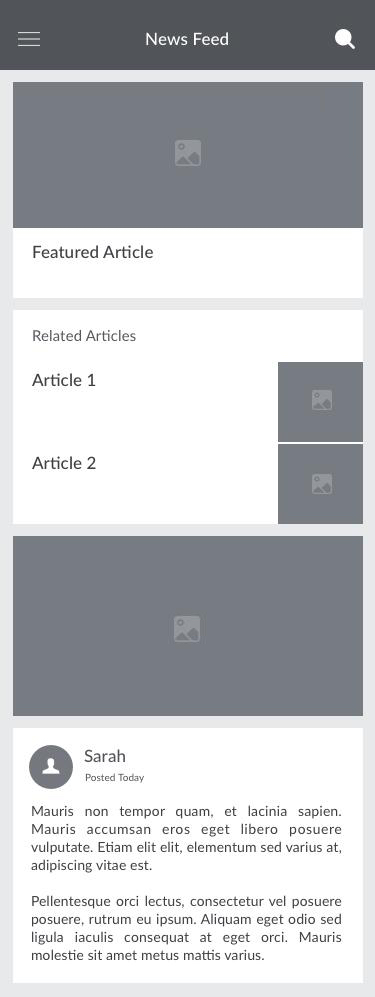Icon: (30, 745, 74, 790), (335, 29, 357, 51), (18, 32, 42, 48)
Image: (14, 536, 363, 716), (14, 83, 363, 229), (278, 363, 363, 442), (278, 445, 363, 524)
Text: (31, 805, 341, 873), (32, 895, 341, 961), (34, 245, 155, 259), (33, 329, 137, 342), (145, 32, 229, 47), (32, 373, 96, 388), (33, 456, 98, 470), (86, 772, 145, 784), (84, 749, 126, 764)
